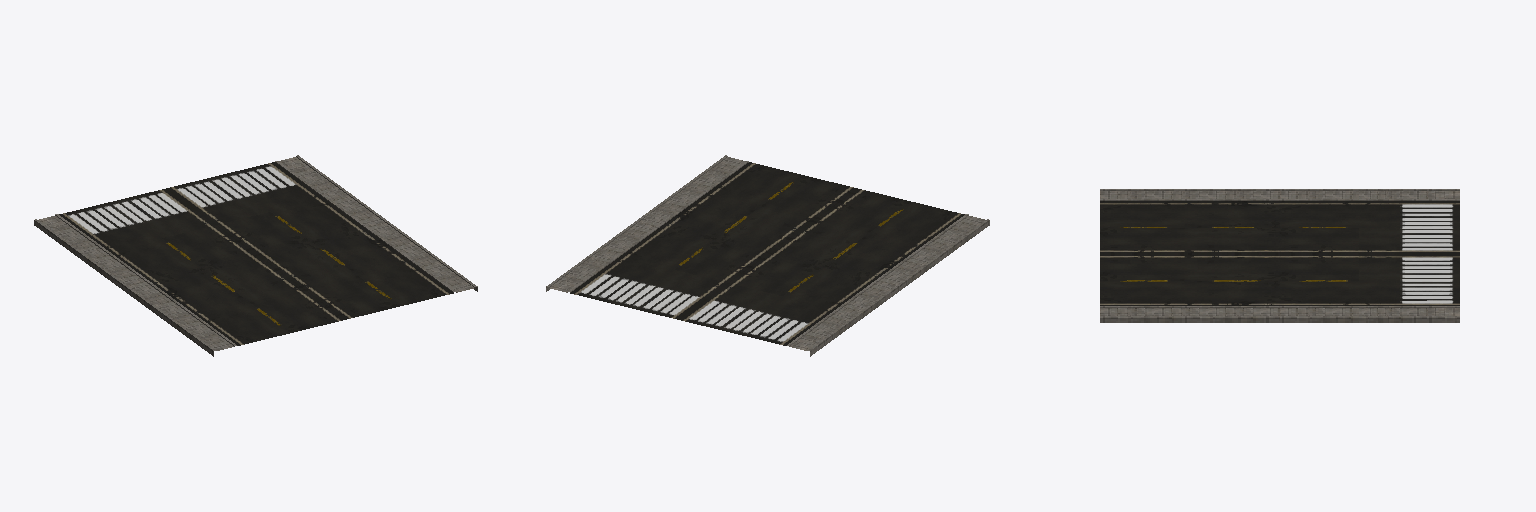
3 renders of one model, left to right at view 1: azimuth 30°, elevation 25°; view 2: azimuth 150°, elevation 25°; view 3: azimuth 270°, elevation 25°, orthographic.
Parts seen in each view (by area): view 1: 7_Road-Crosswalk-Double; view 2: 7_Road-Crosswalk-Double; view 3: 7_Road-Crosswalk-Double.
Part boxes in pixels (left/top/right/bottom): 7_Road-Crosswalk-Double: left=34, top=155, right=477, bottom=356; 7_Road-Crosswalk-Double: left=546, top=155, right=989, bottom=356; 7_Road-Crosswalk-Double: left=1100, top=189, right=1459, bottom=322.
Size of the model in its own units: 1.05 by 0.0219 by 1.24.
Materials: 1 (1 with a texture image).